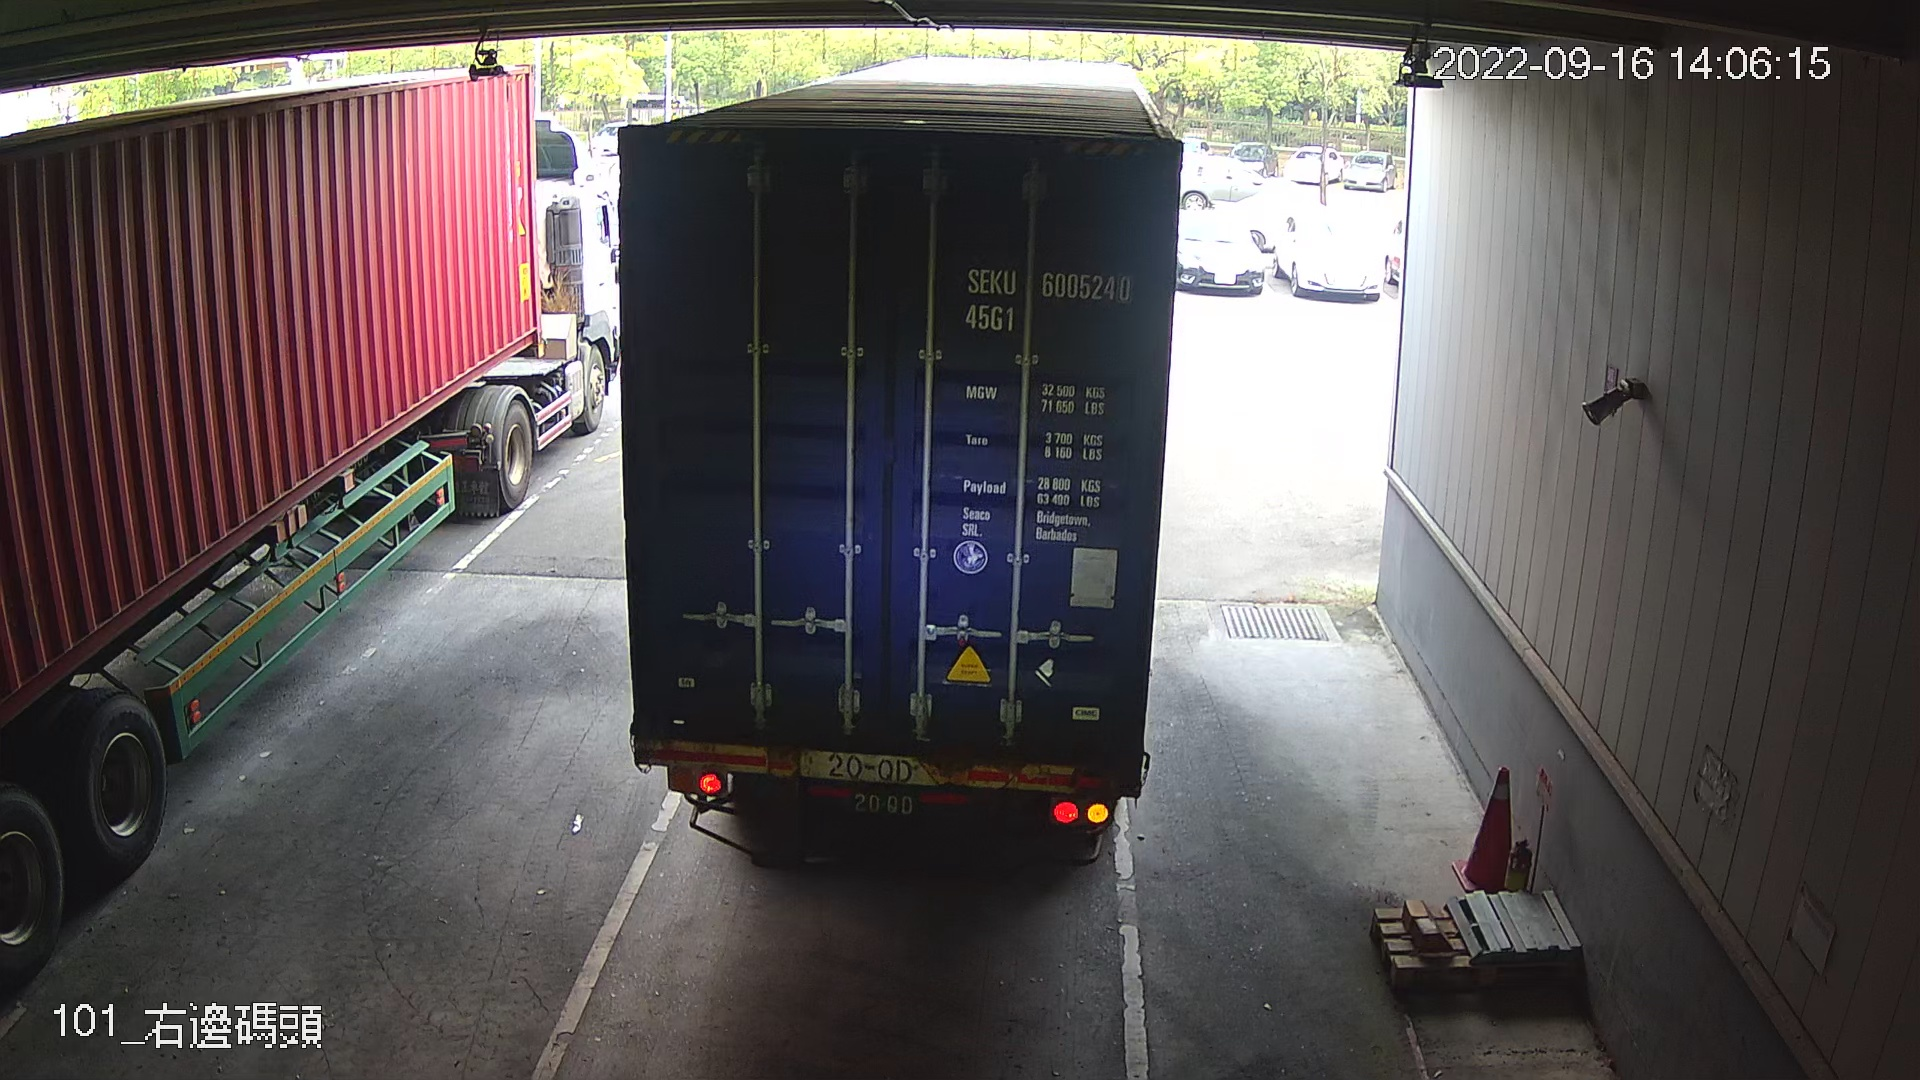container: (956, 260, 1145, 345)
